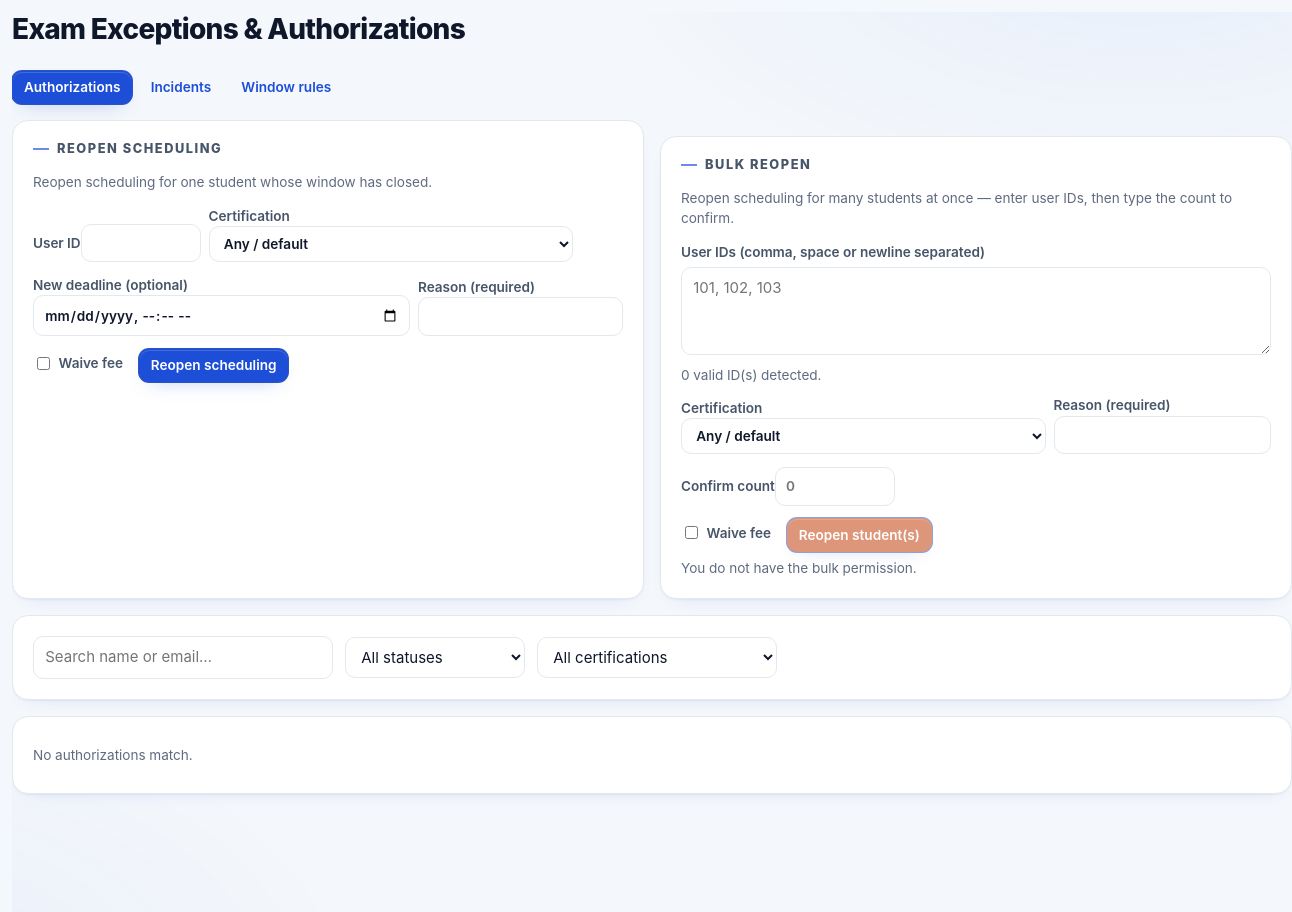
Test case: ExamExceptions admin console › Reopen scheduling (RBAC + validation) › requires a user ID and a reason before posting
Click the button "Reopen scheduling" at (214, 366), box [139,349,288,382]
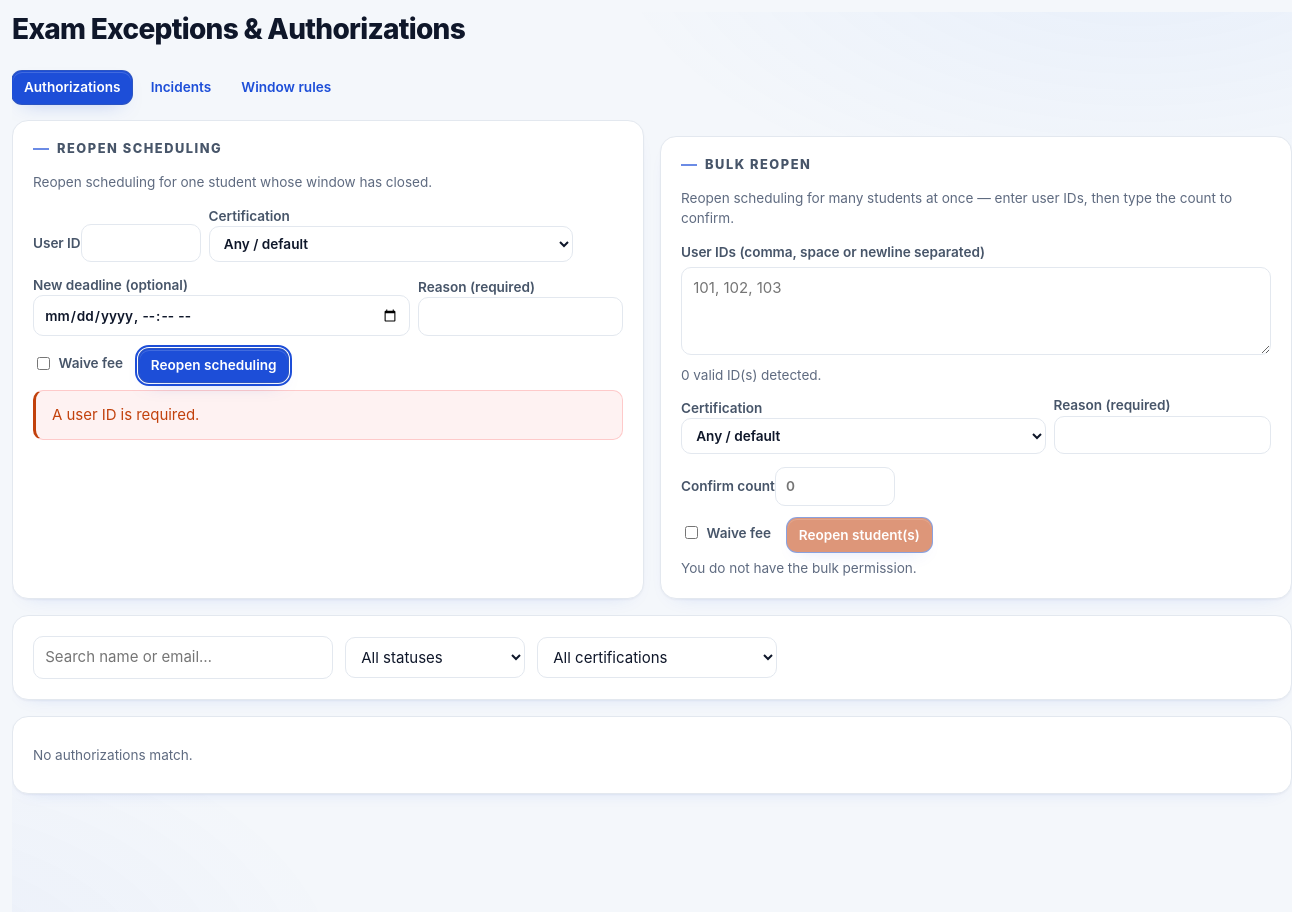
Now the text "A user ID is required." is shown, box [33,390,623,440]
Type "42" into the field labelled "User ID" at (141, 243), box [81,224,201,262]
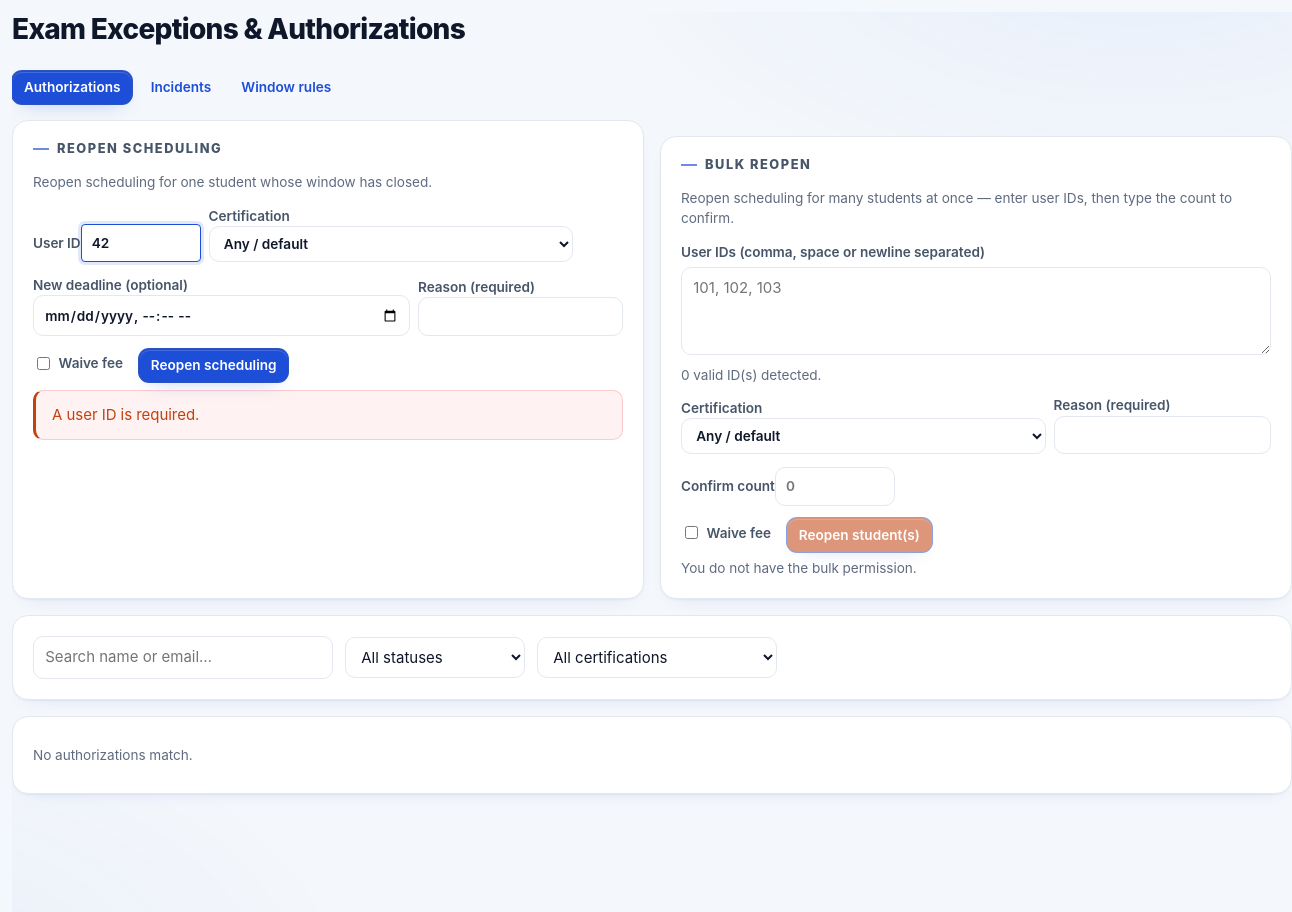
Click the button "Reopen scheduling" at (214, 366), box [139,349,288,382]
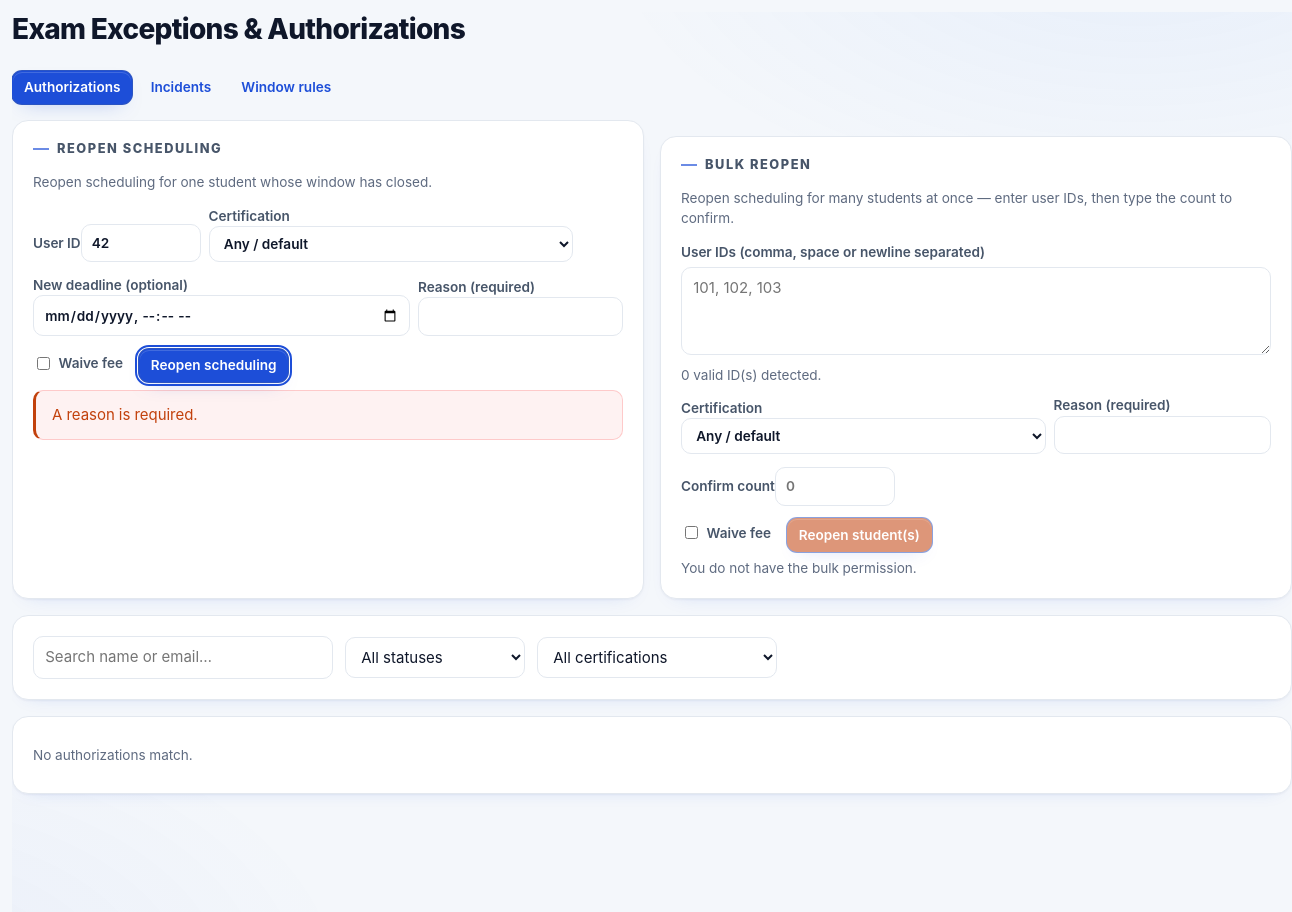
Now the text "A reason is required." is shown, box [33,390,623,440]
